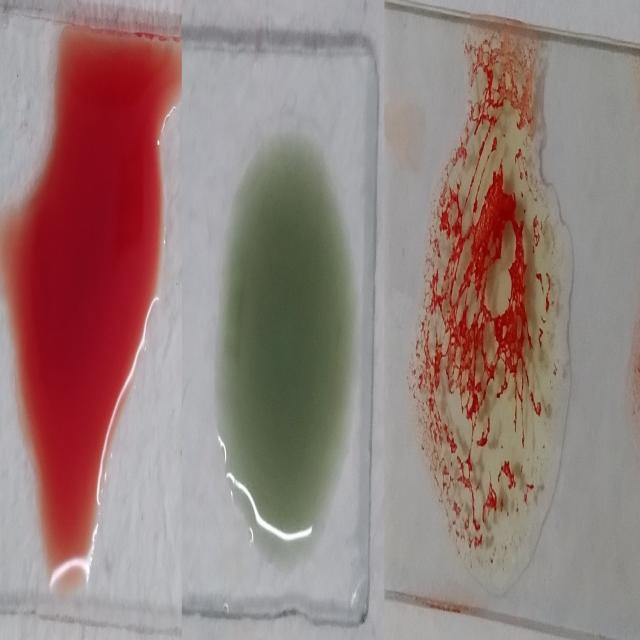B: (416, 35, 571, 587)
